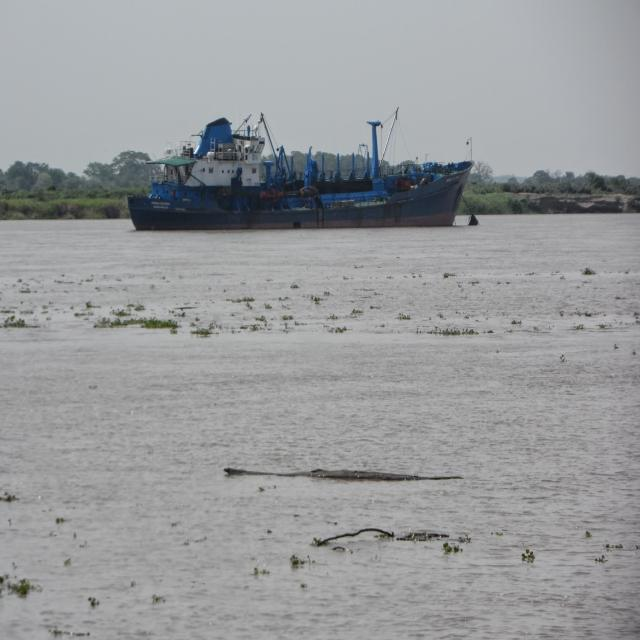fishing boat: (125, 109, 470, 229)
